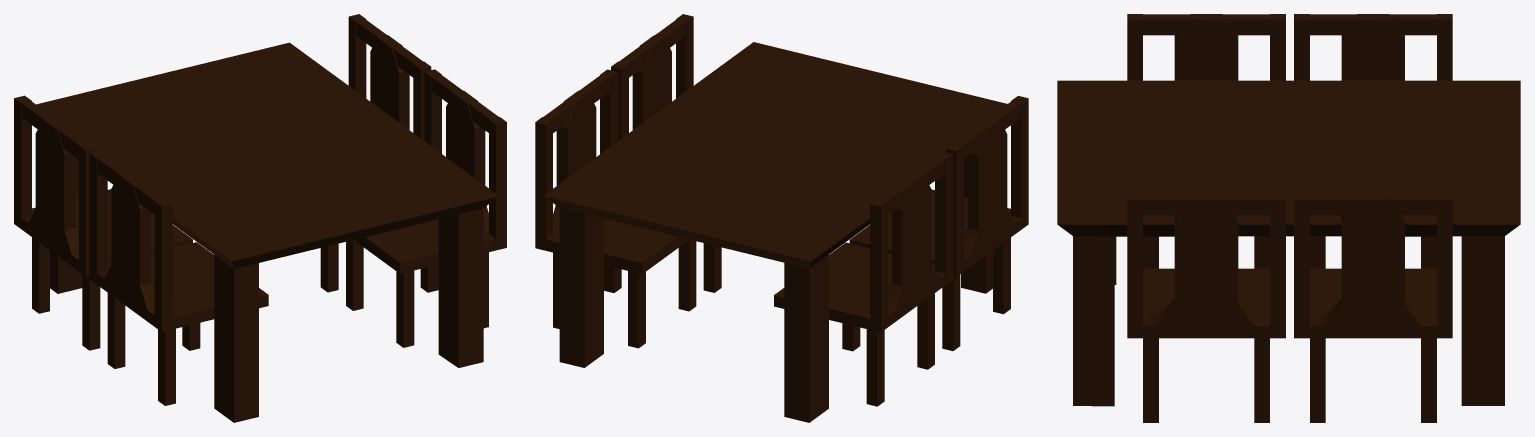
Rendered from Table.fbx.
3 renders of one model, left to right at view 1: azimuth 30°, elevation 25°; view 2: azimuth 150°, elevation 25°; view 3: azimuth 270°, elevation 25°, orthographic. The views are drawn at different scales.
Visible parts, largest first — view 1: Table, Chair #3, Chair #1, Chair #4, Chair #2; view 2: Table, Chair #4, Chair #2, Chair #3, Chair #1; view 3: Table, Chair #1, Chair #2, Chair #3, Chair #4.
Part boxes in pixels (left/top/right/bottom): Table: left=36, top=42, right=499, bottom=422; Chair #3: left=89, top=151, right=268, bottom=405; Chair #1: left=346, top=69, right=506, bottom=347; Chair #4: left=14, top=95, right=192, bottom=350; Chair #2: left=320, top=14, right=431, bottom=292; Table: left=543, top=42, right=1007, bottom=422; Chair #4: left=774, top=151, right=952, bottom=406; Chair #2: left=535, top=69, right=696, bottom=348; Chair #3: left=849, top=96, right=1028, bottom=350; Chair #1: left=611, top=14, right=721, bottom=292; Table: left=1057, top=80, right=1520, bottom=406; Chair #1: left=1127, top=194, right=1285, bottom=422; Chair #2: left=1294, top=194, right=1452, bottom=422; Chair #3: left=1127, top=14, right=1285, bottom=268; Chair #4: left=1294, top=14, right=1452, bottom=268.
Size of the model in its own units: 96.87 by 56.43 by 102.
